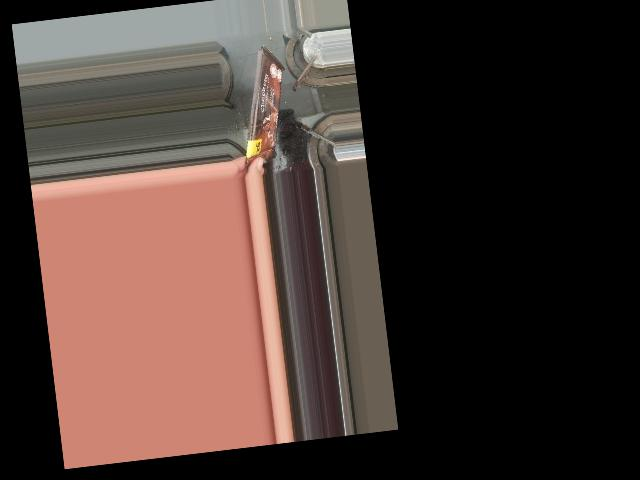chocolate: (232, 44, 295, 164)
